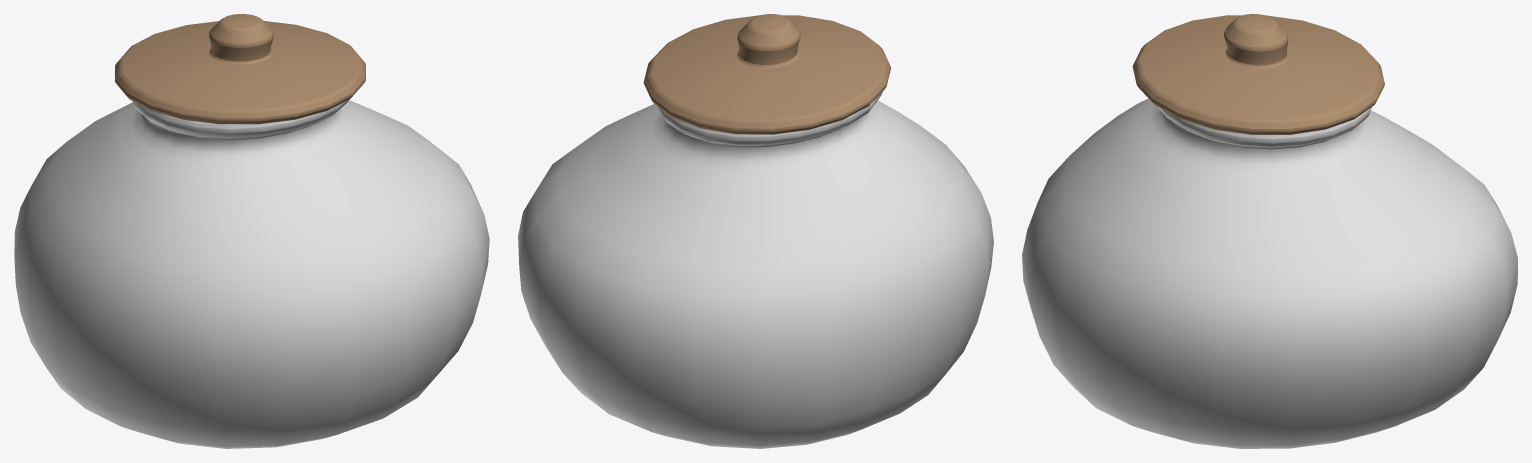
Rendered from pc_banga_2.glb.
3 renders of one model, left to right at view 1: azimuth 30°, elevation 25°; view 2: azimuth 150°, elevation 25°; view 3: azimuth 270°, elevation 25°, orthographic. The views are drawn at different scales.
Parts seen in each view (by area): view 1: pc_banga_2_pc_clay, pc_banga_2_timber; view 2: pc_banga_2_pc_clay, pc_banga_2_timber; view 3: pc_banga_2_pc_clay, pc_banga_2_timber.
Boxes of the visible parts, x1,y1,x2,y2 form: pc_banga_2_pc_clay: (14, 99, 489, 448); pc_banga_2_timber: (115, 14, 365, 124); pc_banga_2_pc_clay: (518, 92, 993, 448); pc_banga_2_timber: (643, 14, 890, 134); pc_banga_2_pc_clay: (1022, 98, 1517, 448); pc_banga_2_timber: (1132, 14, 1384, 134).
Bounding box in the file's own units: 0.7922 × 0.6942 × 0.8295.
